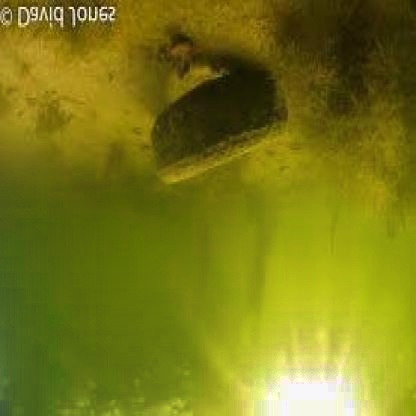tire: (146, 66, 303, 200)
